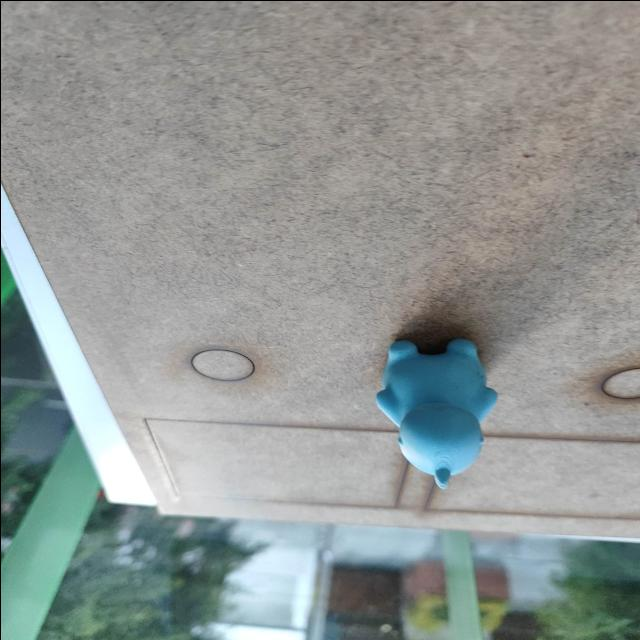DINO: (368, 321, 510, 497)
